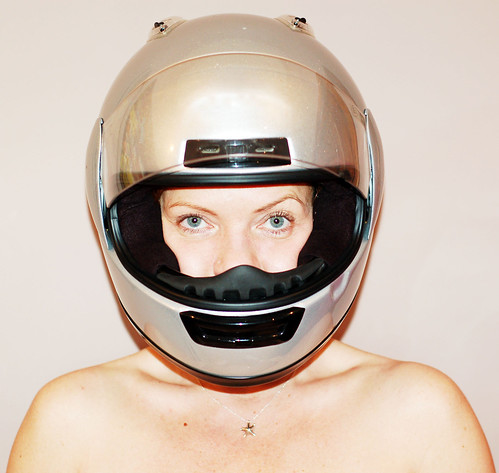helmet: (73, 16, 421, 387)
